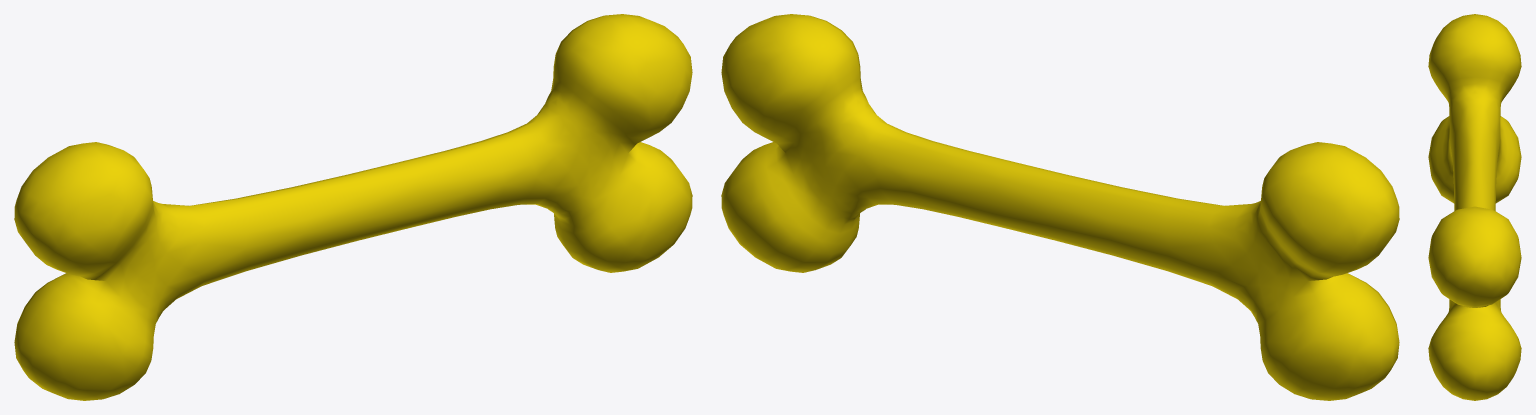
The model's file is bone f.fbx.
3 renders of one model, left to right at view 1: azimuth 30°, elevation 25°; view 2: azimuth 150°, elevation 25°; view 3: azimuth 270°, elevation 25°, orthographic. The views are drawn at different scales.
Parts seen in each view (by area): view 1: Object_2; view 2: Object_2; view 3: Object_2.
Part boxes in pixels (box(x1,y1,x2,y2)): Object_2: box(14, 14, 692, 400); Object_2: box(721, 14, 1399, 400); Object_2: box(1428, 14, 1521, 400).
Size of the model in its own units: 38.41 by 13.62 by 6.25.
